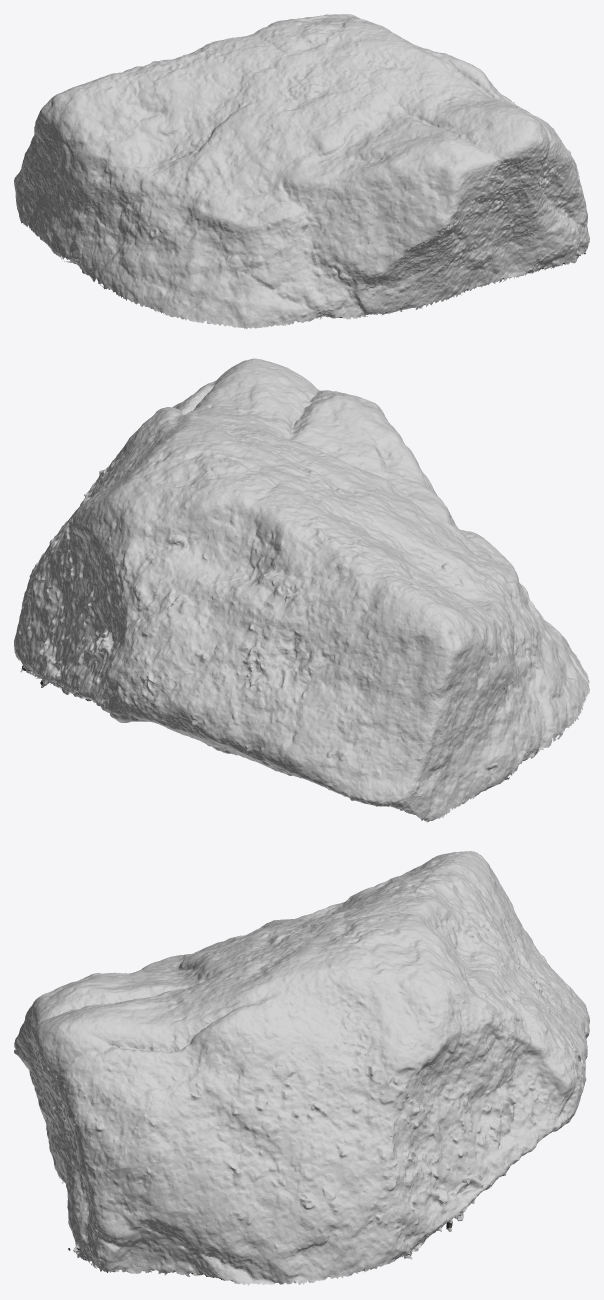
3 views of the same model, one above another, from view 1: azimuth 30°, elevation 25°; view 2: azimuth 150°, elevation 25°; view 3: azimuth 270°, elevation 25° (orthographic). The views are drawn at different scales.
Parts seen in each view (by area): view 1: model; view 2: model; view 3: model.
Part boxes in pixels (x1,y1,x2,y2): model: [14, 14, 589, 329]; model: [14, 358, 589, 822]; model: [14, 851, 589, 1285].
Size of the model in its own units: 1.16 by 0.491 by 1.06.
2 materials, 1 textured.
